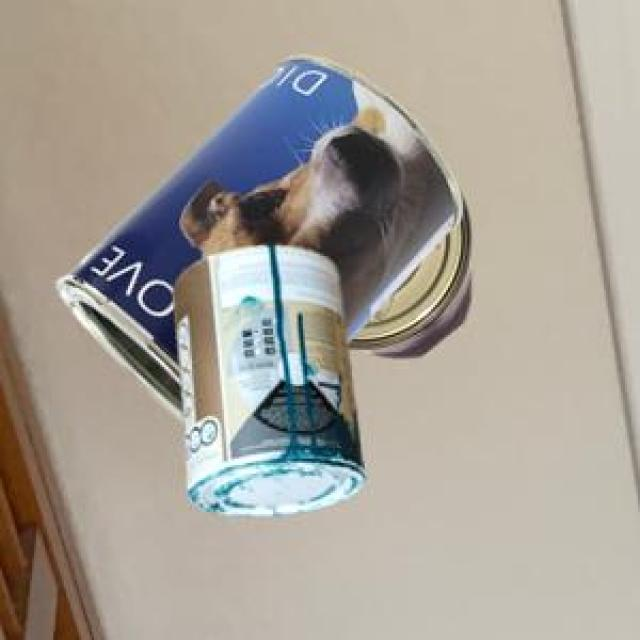logam: (52, 52, 460, 419), (170, 242, 362, 513), (345, 197, 468, 357)
